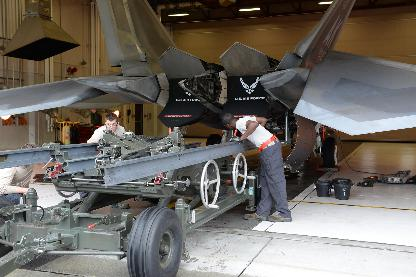F18: (0, 0, 416, 171)
